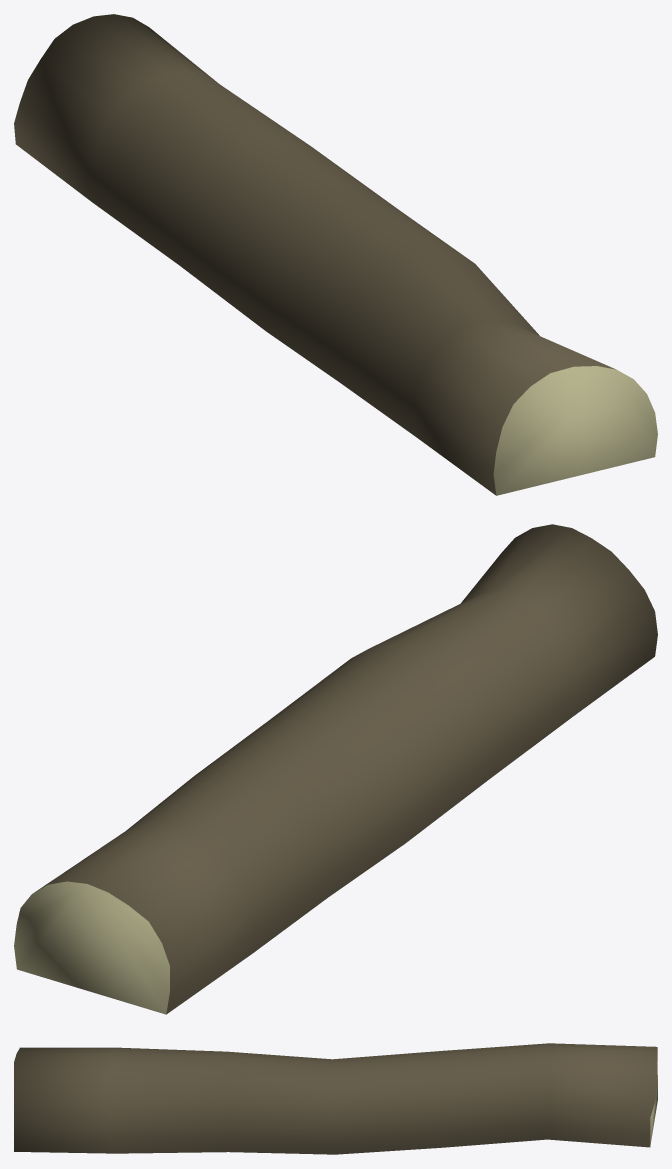
The model's file is log.fbx.
The picture shows the model from 3 angles, top to bottom: view 1: azimuth 30°, elevation 25°; view 2: azimuth 150°, elevation 25°; view 3: azimuth 270°, elevation 25°; orthographic projection. The views are drawn at different scales.
Parts seen in each view (by area): view 1: Cylinder; view 2: Cylinder; view 3: Cylinder.
Part boxes in pixels (box(x1,y1,x2,y2)): Cylinder: box(14, 14, 657, 495); Cylinder: box(14, 524, 657, 1014); Cylinder: box(14, 1043, 657, 1154).
Size of the model in its own units: 37.9 by 26.25 by 184.
